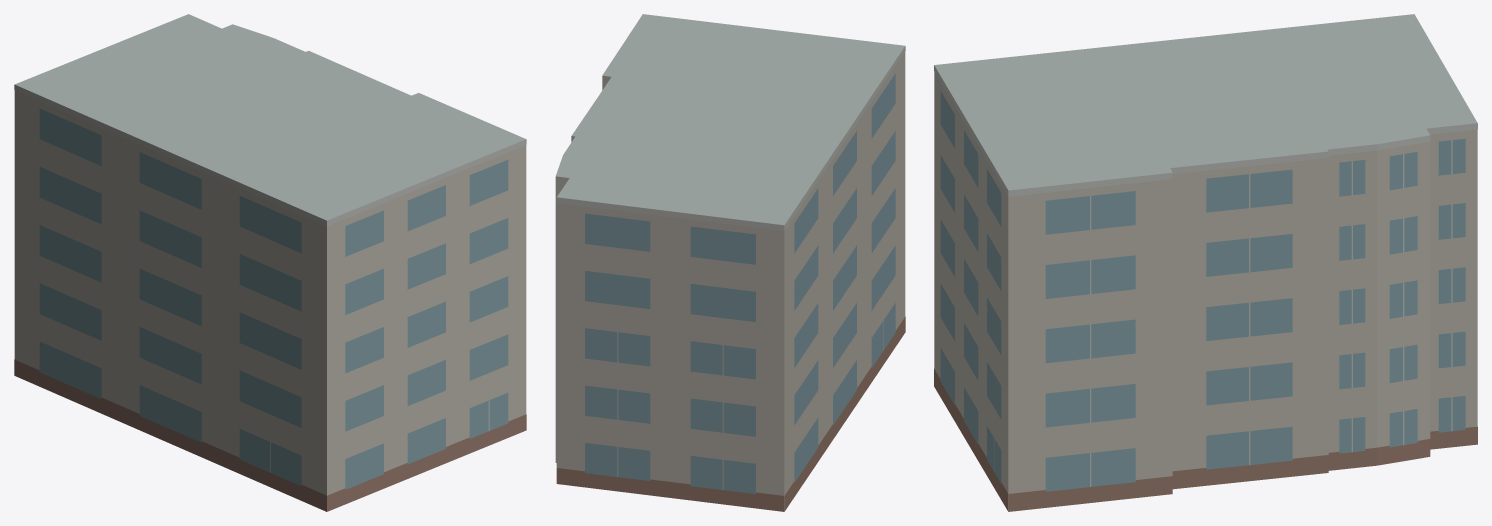
Rendered from survey-upis-32806193.glb.
The picture shows the model from 3 angles, left to right: view 1: azimuth 30°, elevation 25°; view 2: azimuth 150°, elevation 25°; view 3: azimuth 270°, elevation 25°; orthographic projection. The views are drawn at different scales.
Parts seen in each view (by area): view 1: survey-upis-32806193.tmp; view 2: survey-upis-32806193.tmp; view 3: survey-upis-32806193.tmp.
Part boxes in pixels (left/top/right/bottom): survey-upis-32806193.tmp: left=14, top=14, right=526, bottom=511; survey-upis-32806193.tmp: left=555, top=14, right=905, bottom=511; survey-upis-32806193.tmp: left=934, top=14, right=1477, bottom=511.
Bounding box in the file's own units: 14.8 × 12.55 × 19.25.
